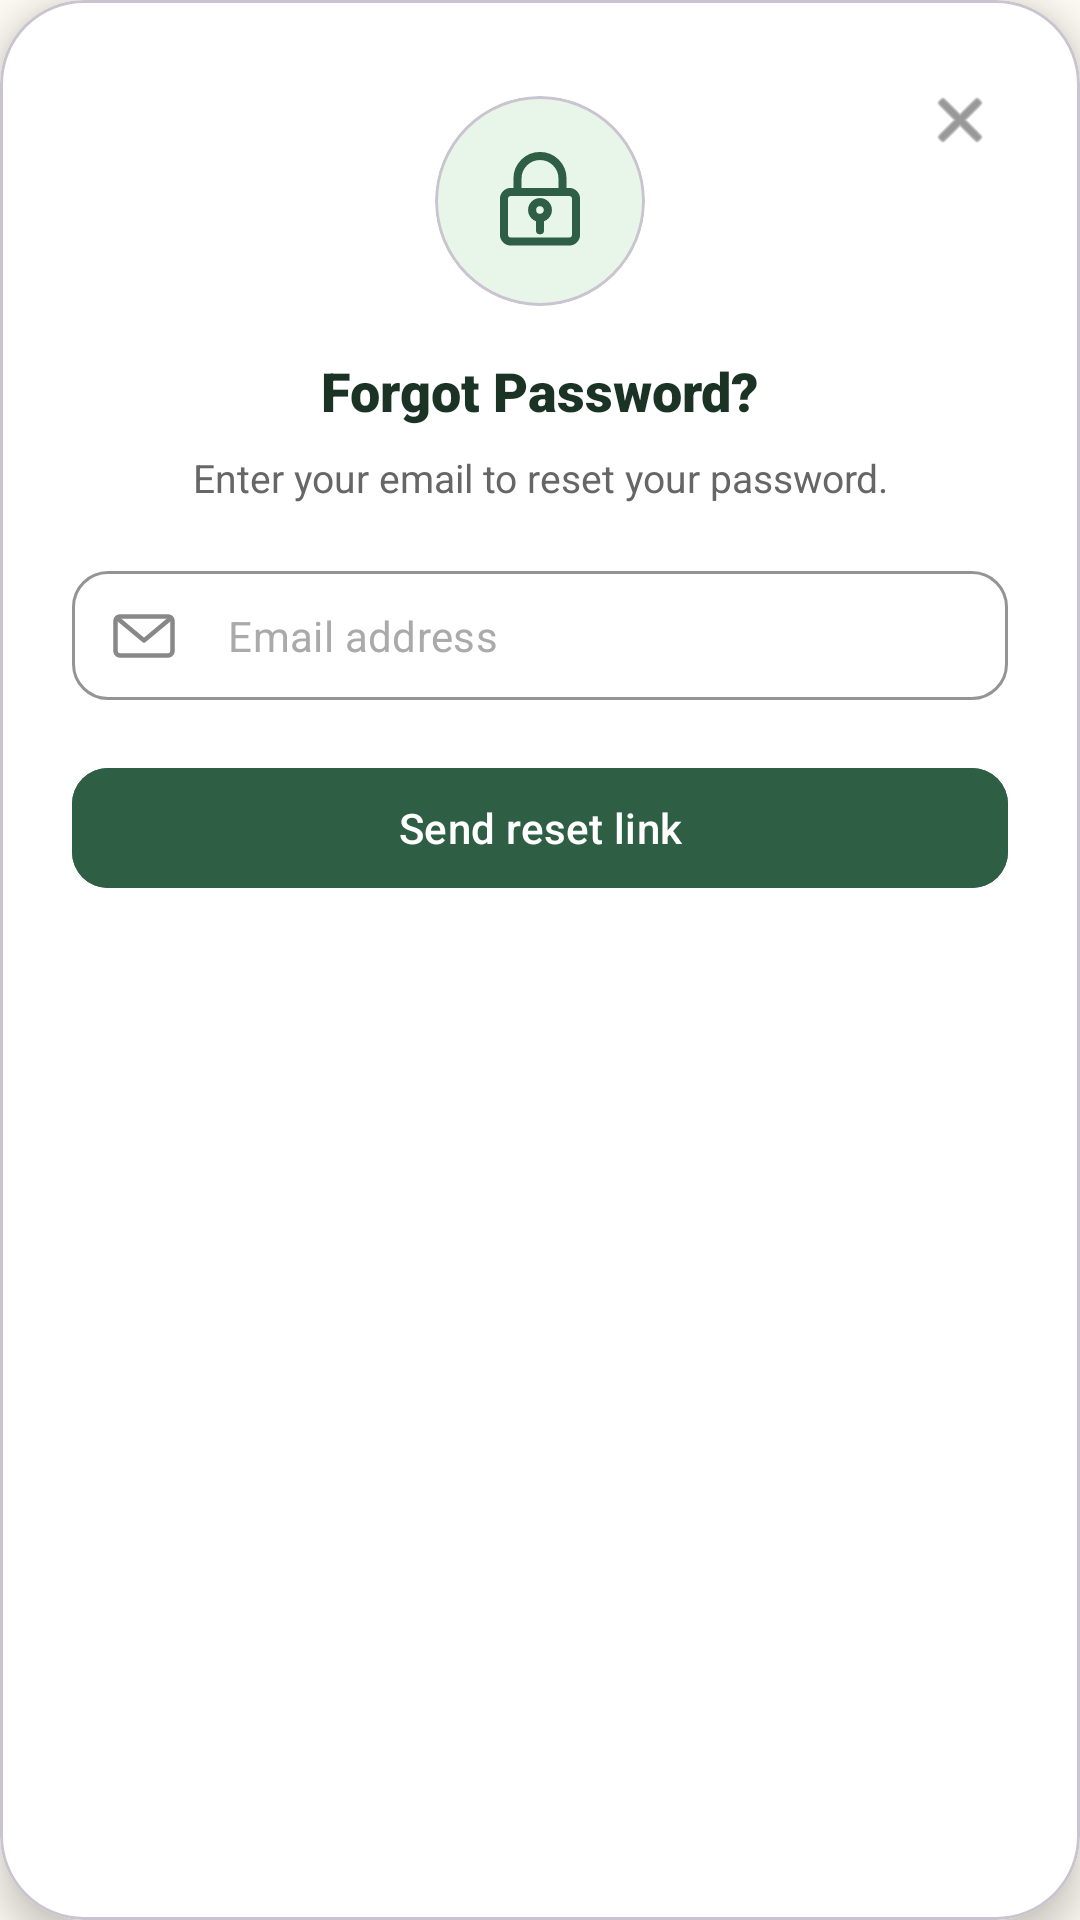

Where to tap for icons on this 1080px x 1920px app screen, as (x,y):
close clear cancel: (960,120)
lock: (540,199)
